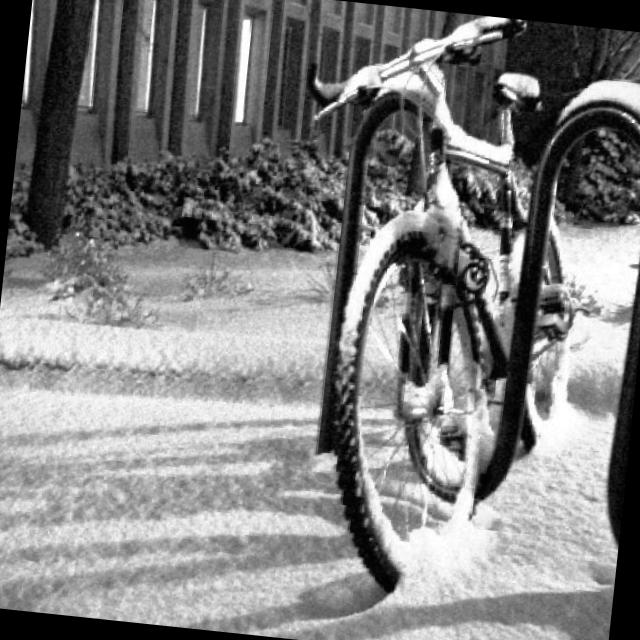Bicycle: (282, 1, 615, 640)
